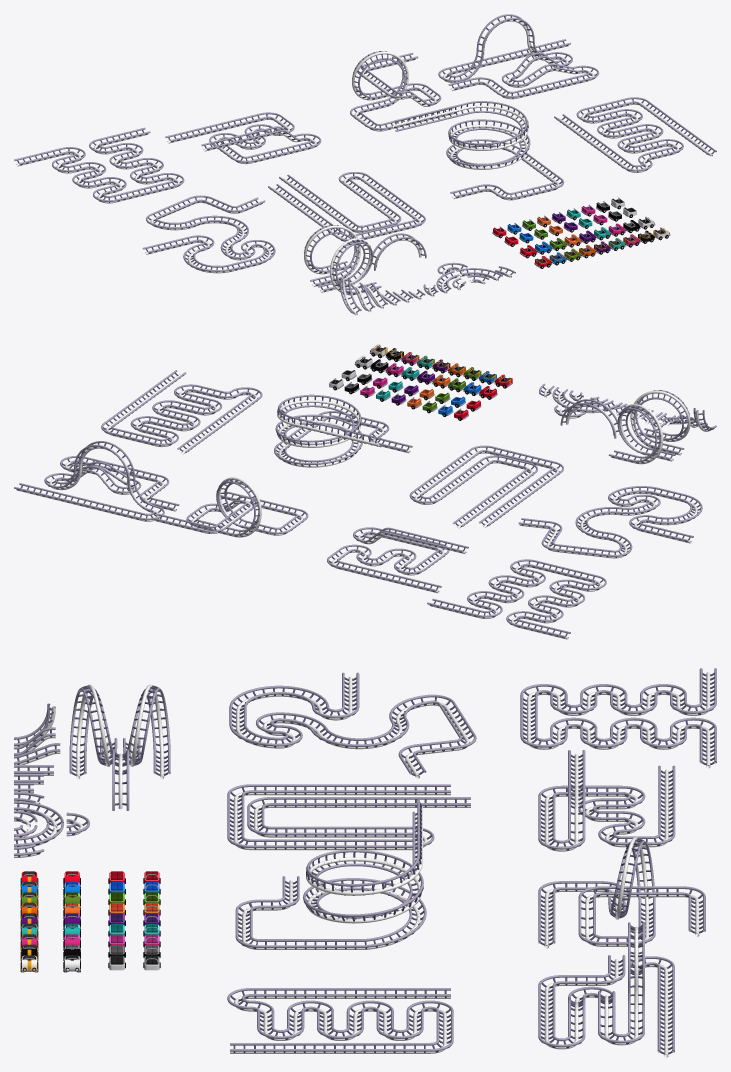
Rendered from roller_coaster_pack.glb.
The picture shows the model from 3 angles, top to bottom: view 1: azimuth 30°, elevation 25°; view 2: azimuth 150°, elevation 25°; view 3: azimuth 270°, elevation 25°; orthographic projection. The views are drawn at different scales.
Parts seen in each view (by area): view 1: Plane.048, Plane.309, Plane.300, Plane.310, Plane.335, Plane.337; view 2: Plane.048, Plane.300, Plane.310, Plane.309, Plane.335, Plane.337; view 3: Plane.048, Plane.310, Plane.300, Plane.309, Plane.337, Plane.335, Plane.053, Plane.334.
Boxes of the visible parts, bbox=[...] form: Plane.048: bbox=[392, 101, 540, 169]; Plane.309: bbox=[352, 51, 408, 112]; Plane.300: bbox=[304, 225, 360, 287]; Plane.310: bbox=[318, 238, 381, 295]; Plane.335: bbox=[477, 14, 534, 51]; Plane.337: bbox=[372, 233, 426, 270]; Plane.048: bbox=[274, 394, 381, 467]; Plane.300: bbox=[608, 404, 675, 464]; Plane.310: bbox=[630, 390, 690, 455]; Plane.309: bbox=[207, 477, 273, 537]; Plane.335: bbox=[74, 441, 134, 480]; Plane.337: bbox=[560, 399, 619, 438]; Plane.048: bbox=[303, 799, 426, 949]; Plane.310: bbox=[69, 684, 117, 779]; Plane.300: bbox=[123, 684, 170, 779]; Plane.309: bbox=[608, 837, 655, 929]; Plane.337: bbox=[112, 749, 129, 810]; Plane.335: bbox=[628, 922, 644, 983]; Plane.053: bbox=[235, 893, 299, 920]; Plane.334: bbox=[628, 981, 644, 1036].
Size of the model in its own units: 144 by 14.26 by 112.
Materials: 1 (1 with a texture image).
